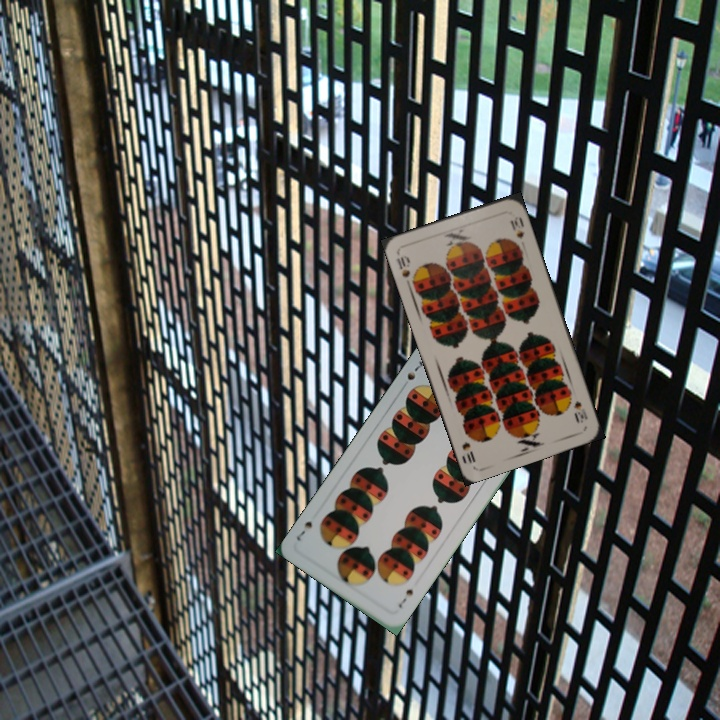S10: (392, 251, 419, 287), (569, 397, 590, 426)
S7: (403, 357, 426, 383), (394, 585, 416, 611)
